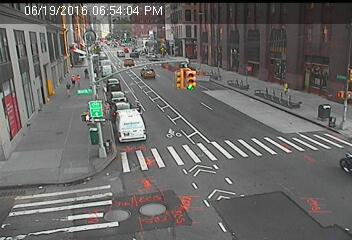neg: (335, 145, 351, 182), (328, 110, 347, 135), (99, 136, 114, 156), (315, 75, 329, 93), (198, 68, 210, 85), (160, 46, 167, 56)
pos: (60, 80, 73, 98), (72, 73, 83, 88), (280, 81, 291, 95), (81, 66, 91, 79)
